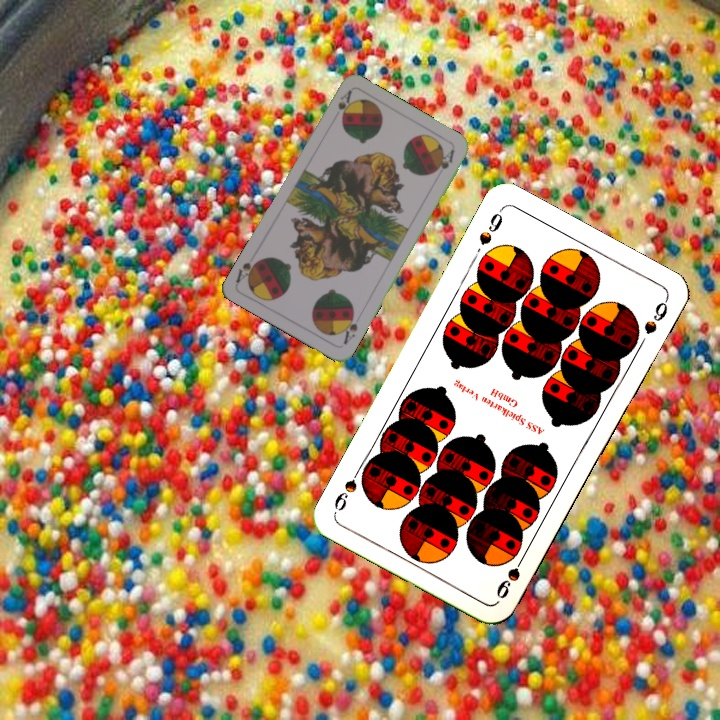S9: (492, 548, 529, 602), (475, 205, 505, 248)
SA: (338, 308, 360, 347), (334, 86, 354, 122)
